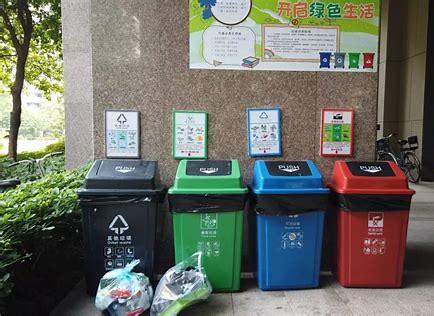garbage: (150, 249, 223, 313), (89, 260, 155, 316)
